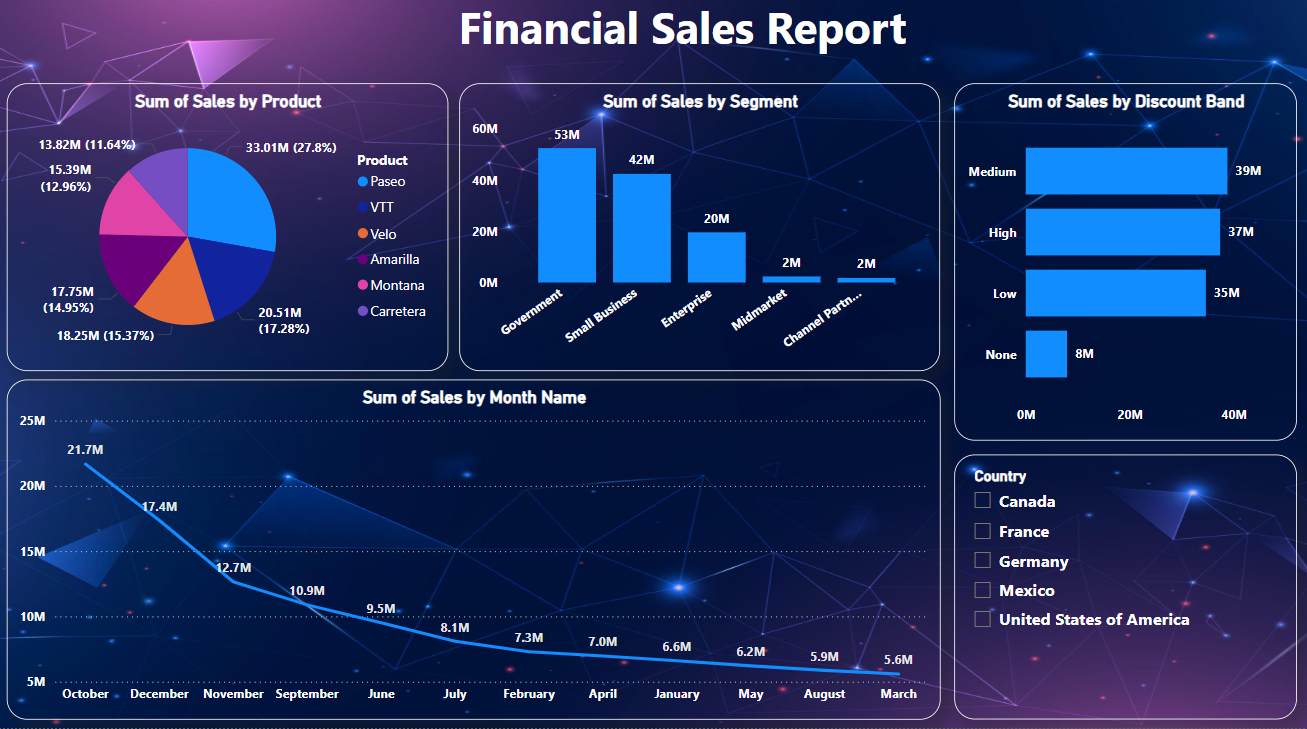

What the dashboard file says about the page in this screenshot:
{"tool":"powerbi","page":{"name":"sales report","canvas":[1280,720],"ordinal":1},"visuals":[{"type":"textbox","box":[140.6,0,1057.8,132.1],"z":0},{"type":"pieChart","fields":{"Category":["financials.Product"],"Y":["Sum(financials. Sales)"]},"box":[0,89.3,440.2,281.3],"z":1000},{"type":"columnChart","fields":{"Category":["financials.Segment"],"Y":["Sum(financials. Sales)"]},"box":[440.2,89.3,481.8,281.3],"z":2000},{"type":"clusteredBarChart","fields":{"Category":["financials.Discount Band"],"Y":["Sum(financials. Sales)"]},"box":[922,89.3,358.3,281.3],"z":3000},{"type":"lineChart","fields":{"Category":["financials.Month Name"],"Y":["Sum(financials. Sales)"]},"box":[0,370.5,946.5,349.7],"z":4000},{"type":"slicer","fields":{"Values":["financials.Country"]},"box":[946.5,370.5,333.8,240.9],"z":5000}]}

Visuals, with their boxes in screenshot pixels (x1, y1, x2, y2), scaled from the page's 1280x720 canvas onto the 1307x729 screenshot:
textbox: (x1=144, y1=0, x2=1224, y2=134)
pieChart - financials.Product x Sum(financials. Sales): (x1=0, y1=90, x2=449, y2=375)
columnChart - financials.Segment x Sum(financials. Sales): (x1=449, y1=90, x2=941, y2=375)
clusteredBarChart - financials.Discount Band x Sum(financials. Sales): (x1=941, y1=90, x2=1306, y2=375)
lineChart - financials.Month Name x Sum(financials. Sales): (x1=0, y1=375, x2=966, y2=728)
slicer - financials.Country: (x1=966, y1=375, x2=1306, y2=619)
